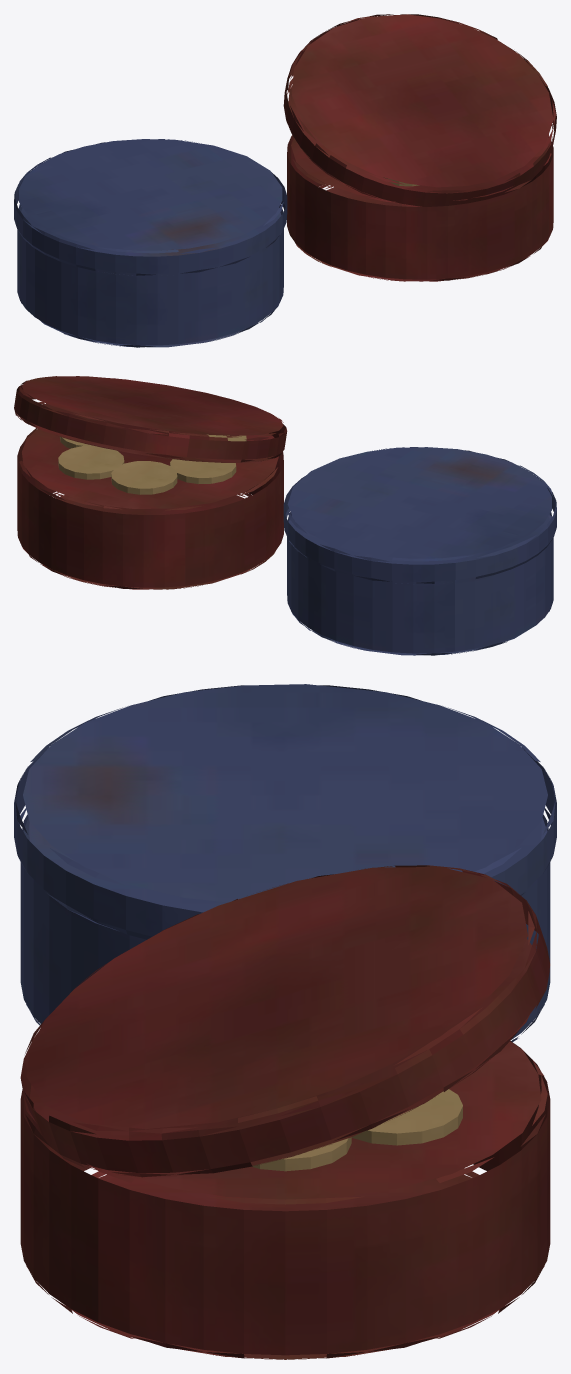
The model's file is FD14_BiscuitTin.glb.
The picture shows the model from 3 angles, top to bottom: view 1: azimuth 30°, elevation 25°; view 2: azimuth 150°, elevation 25°; view 3: azimuth 270°, elevation 25°; orthographic projection. The views are drawn at different scales.
Visible parts, largest first — view 1: FD14_BiscuitTin; view 2: FD14_BiscuitTin; view 3: FD14_BiscuitTin.
Boxes of the visible parts, x1,y1,x2,y2 form: FD14_BiscuitTin: [14, 14, 556, 347]; FD14_BiscuitTin: [14, 376, 556, 655]; FD14_BiscuitTin: [14, 684, 556, 1359].
Size of the model in its own units: 0.25 by 0.077 by 0.1169.
Materials: 3 (3 with a texture image).
